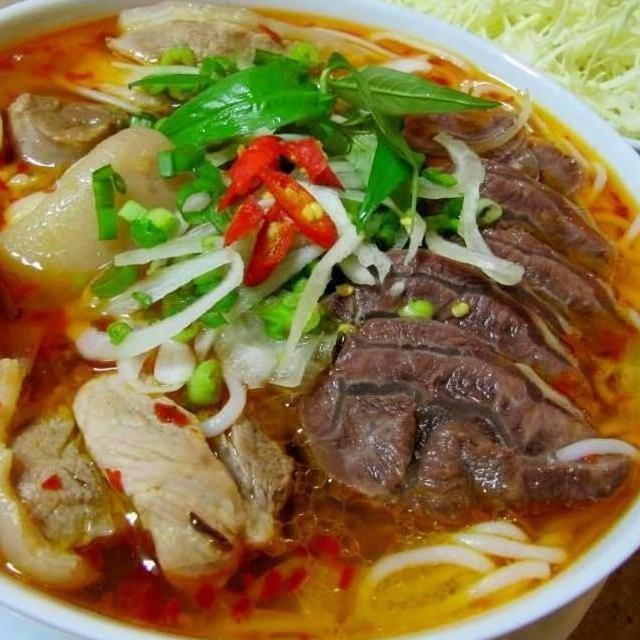bun: (190, 500, 581, 640)
bun bo: (0, 5, 640, 640)
thit bo: (286, 307, 640, 530), (297, 234, 606, 436), (377, 200, 628, 340), (404, 146, 618, 282), (373, 92, 592, 220)
thit heo: (2, 412, 142, 550), (190, 398, 302, 518)
